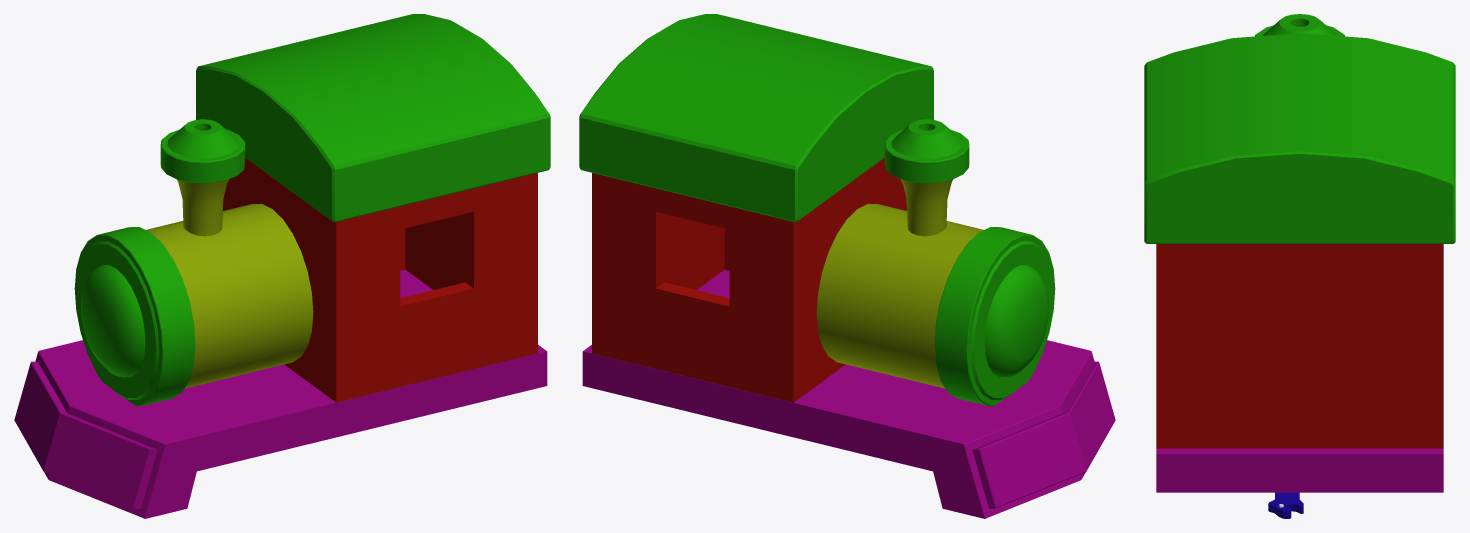
Rendered from Train.fbx.
3 renders of one model, left to right at view 1: azimuth 30°, elevation 25°; view 2: azimuth 150°, elevation 25°; view 3: azimuth 270°, elevation 25°, orthographic. The views are drawn at different scales.
Visible parts, largest first — view 1: Train; view 2: Train; view 3: Train.
Boxes of the visible parts, x1,y1,x2,y2 form: Train: (14, 14, 550, 518); Train: (579, 14, 1115, 518); Train: (1144, 14, 1455, 518).
Size of the model in its own units: 1.84 by 1.25 by 0.9328.
